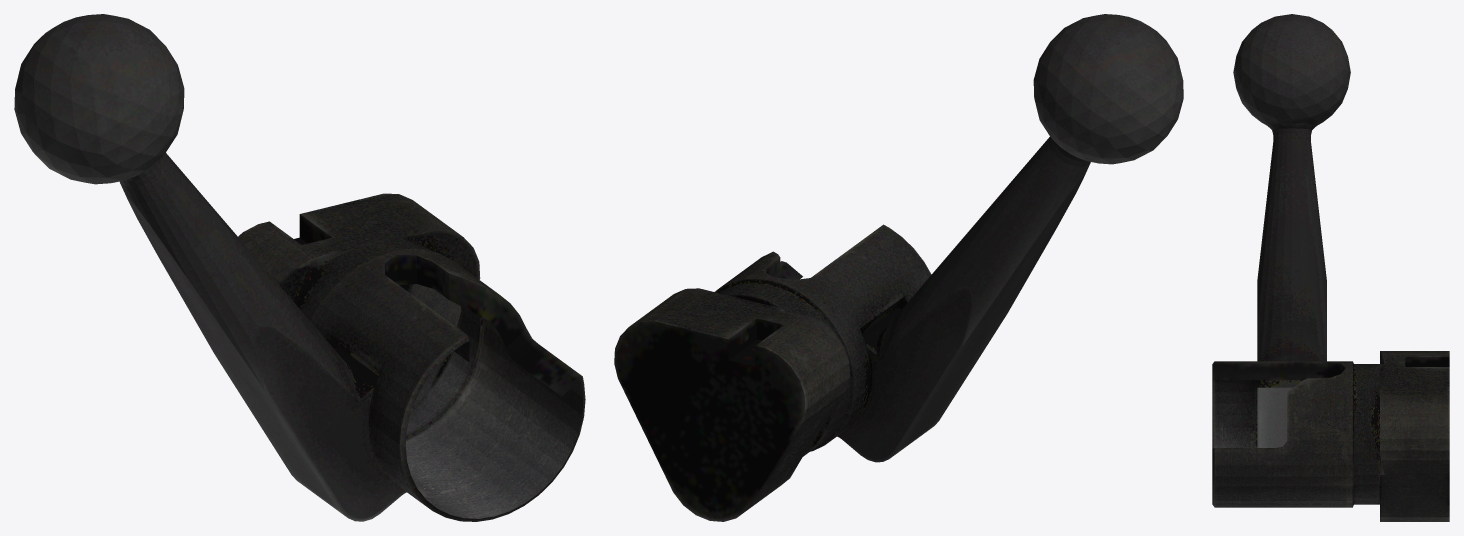
The picture shows the model from 3 angles, left to right: view 1: azimuth 30°, elevation 25°; view 2: azimuth 150°, elevation 25°; view 3: azimuth 270°, elevation 25°; orthographic projection. The views are drawn at different scales.
Visible parts, largest first — view 1: TW_5de652c31b7e3716273428be_PZ_Import; view 2: TW_5de652c31b7e3716273428be_PZ_Import; view 3: TW_5de652c31b7e3716273428be_PZ_Import.
Boxes of the visible parts, x1,y1,x2,y2 form: TW_5de652c31b7e3716273428be_PZ_Import: [14, 14, 585, 521]; TW_5de652c31b7e3716273428be_PZ_Import: [614, 14, 1183, 521]; TW_5de652c31b7e3716273428be_PZ_Import: [1212, 14, 1449, 521].
Bounding box in the file's own units: 0.0323 × 0.0187 × 0.0336.
Materials: 1 (1 with a texture image).
